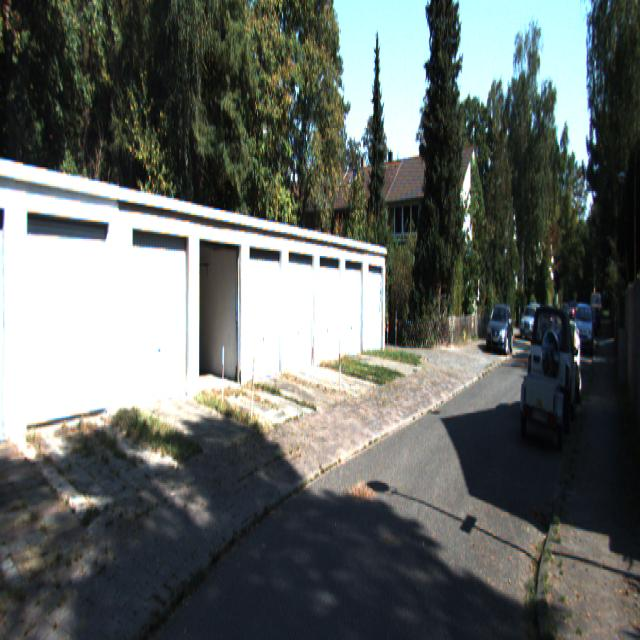Car: (528, 301, 578, 430), (486, 303, 515, 355)
DontCare: (577, 290, 601, 348)
Misc: (521, 362, 561, 440)
